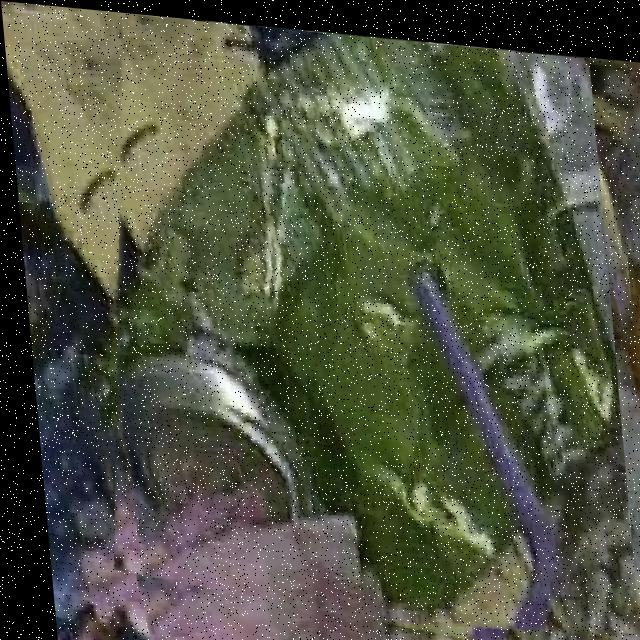can: (106, 24, 611, 620)
